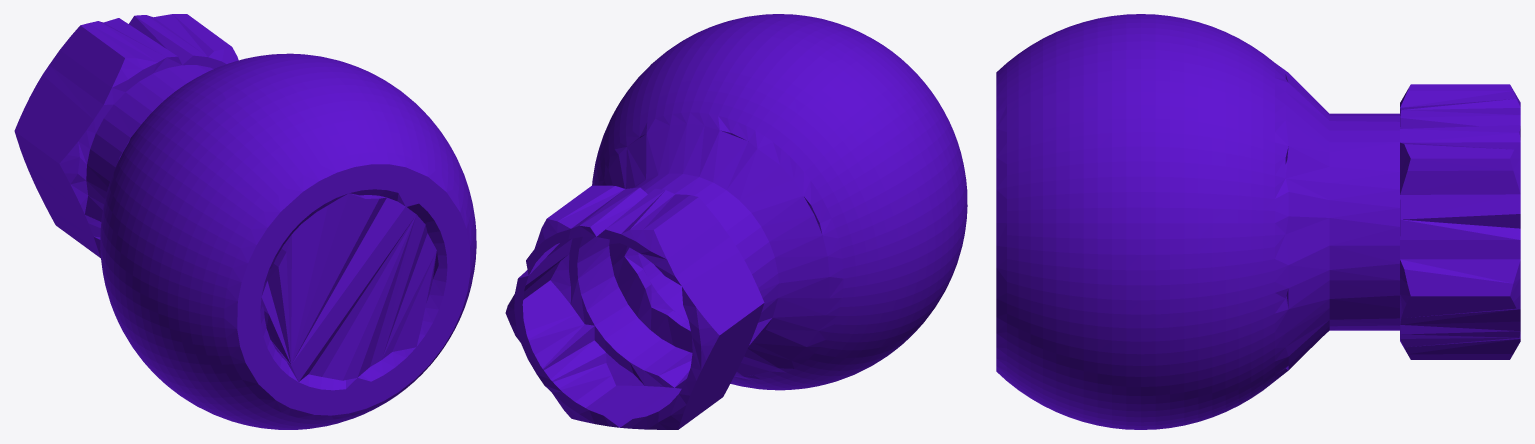
Rendered from Carriage2_rh.OBJ.
The picture shows the model from 3 angles, left to right: view 1: azimuth 30°, elevation 25°; view 2: azimuth 150°, elevation 25°; view 3: azimuth 270°, elevation 25°; orthographic projection. The views are drawn at different scales.
Visible parts, largest first — view 1: /ambf/env/Carriage2_rh_Carriage2_rh; view 2: /ambf/env/Carriage2_rh_Carriage2_rh; view 3: /ambf/env/Carriage2_rh_Carriage2_rh.
Part boxes in pixels (<box>): /ambf/env/Carriage2_rh_Carriage2_rh: <box>14,14,476,429</box>; /ambf/env/Carriage2_rh_Carriage2_rh: <box>505,14,967,429</box>; /ambf/env/Carriage2_rh_Carriage2_rh: <box>996,14,1520,429</box>.
Size of the model in its own units: 0.0183 by 0.0183 by 0.023.
